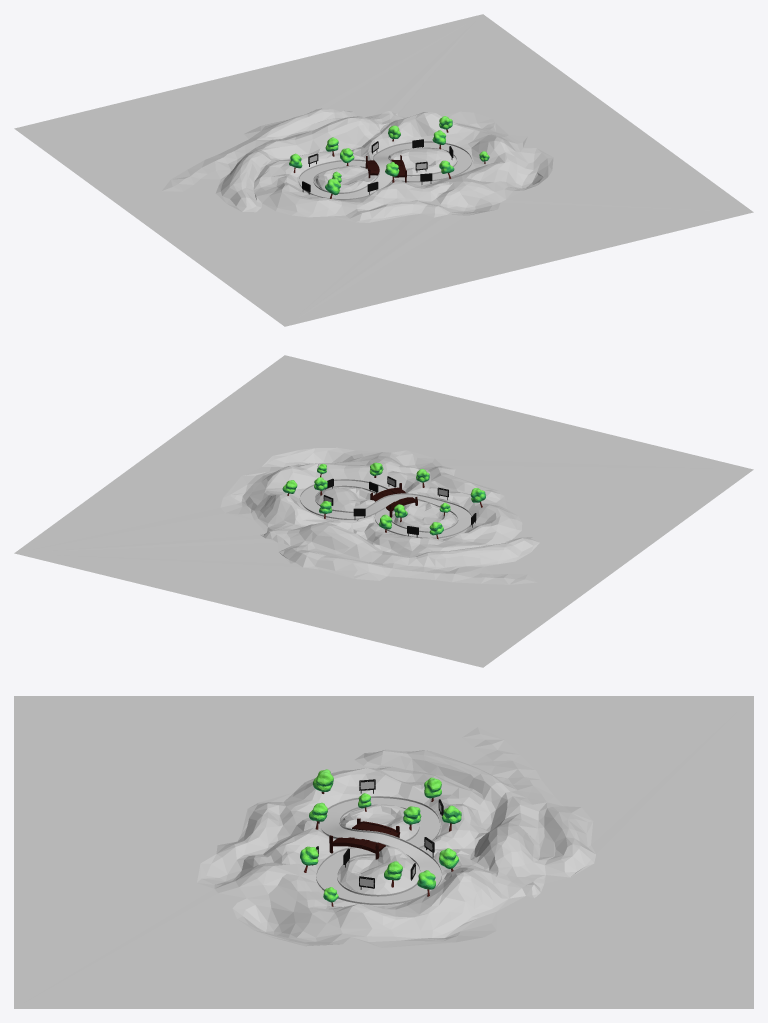
File: track.obj
3 views of the same model, one above another, from view 1: azimuth 30°, elevation 25°; view 2: azimuth 150°, elevation 25°; view 3: azimuth 270°, elevation 25° (orthographic). The views are drawn at different scales.
Visible parts, largest first — view 1: Plane.001_Plane.004, track_Plane.001, track.001_Plane.003; view 2: Plane.001_Plane.004, track_Plane.001, track.001_Plane.003; view 3: Plane.001_Plane.004, track_Plane.001, track.001_Plane.003.
Part boxes in pixels (x1,y1,x2,y2): Plane.001_Plane.004: [14, 14, 753, 326]; track_Plane.001: [299, 142, 471, 198]; track.001_Plane.003: [298, 141, 472, 200]; Plane.001_Plane.004: [14, 355, 753, 667]; track_Plane.001: [300, 480, 471, 537]; track.001_Plane.003: [299, 479, 471, 538]; Plane.001_Plane.004: [14, 696, 753, 1008]; track_Plane.001: [316, 798, 441, 903]; track.001_Plane.003: [316, 796, 441, 904].
Bounding box in the file's own units: 23.78 × 1.87 × 23.78.
